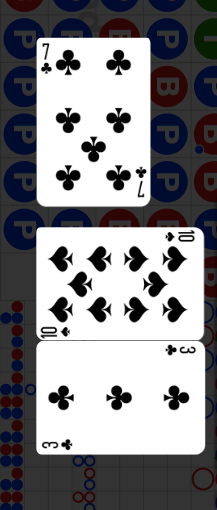10S: (163, 229, 196, 243)
3C: (41, 437, 75, 452)
7C: (39, 42, 54, 77)
